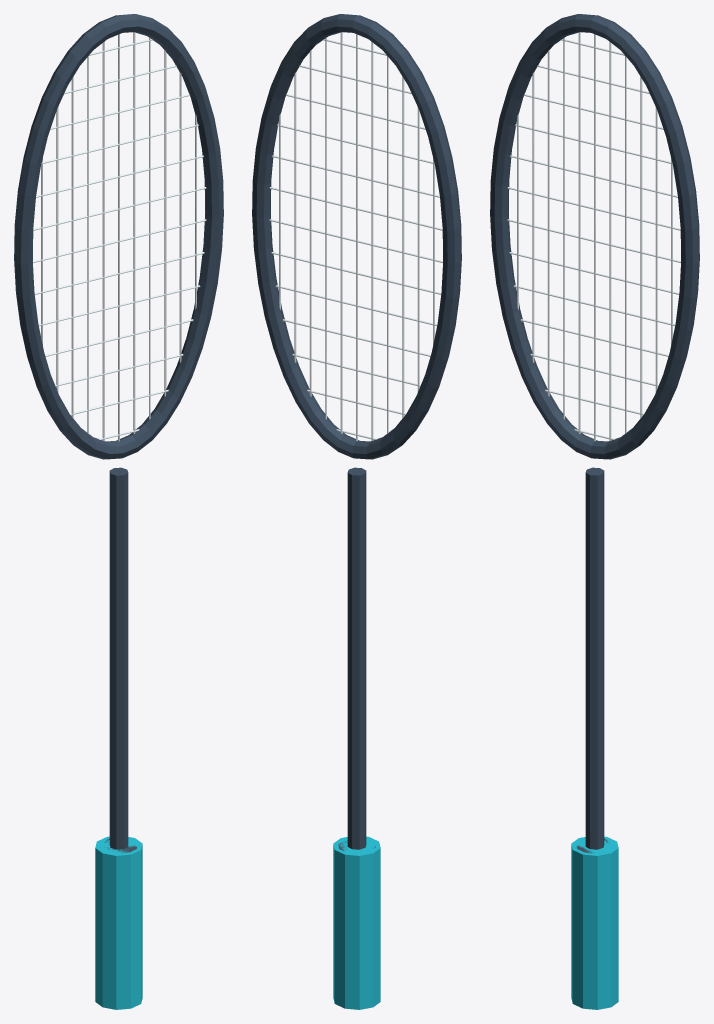
Rendered from BadmintonRacket.glb.
3 views of the same model, side by side, from view 1: azimuth 30°, elevation 25°; view 2: azimuth 150°, elevation 25°; view 3: azimuth 330°, elevation 25° (orthographic).
Parts seen in each view (by area): view 1: RacketFrame, RacketStrings, RacketGrip, RacketShaft; view 2: RacketFrame, RacketStrings, RacketGrip, RacketShaft; view 3: RacketFrame, RacketStrings, RacketGrip, RacketShaft.
Part boxes in pixels (x1,y1,x2,y2): RacketFrame: (14,14,223,459); RacketStrings: (33,32,206,441); RacketGrip: (95,836,142,1009); RacketShaft: (109,467,128,849); RacketFrame: (252,14,461,459); RacketStrings: (269,32,442,441); RacketGrip: (333,836,380,1009); RacketShaft: (347,467,366,849); RacketFrame: (490,14,699,459); RacketStrings: (507,32,680,441); RacketGrip: (571,836,618,1009); RacketShaft: (585,467,604,849).
Bounding box in the file's own units: 0.1483 × 0.671 × 0.03.
